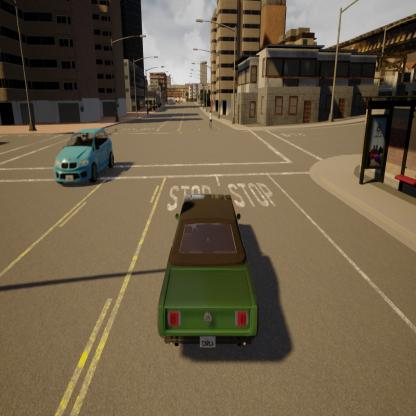Cars: (148, 176, 262, 362), (54, 116, 120, 198)
